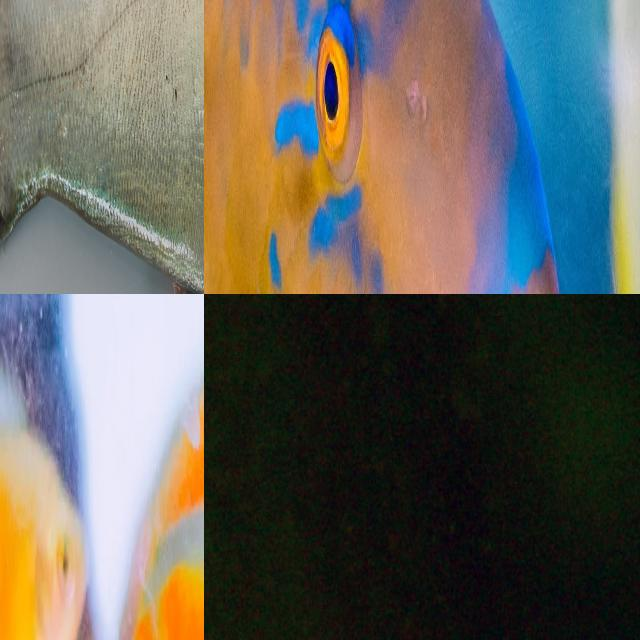fish: (0, 0, 204, 294), (204, 95, 494, 294), (53, 294, 204, 608)
